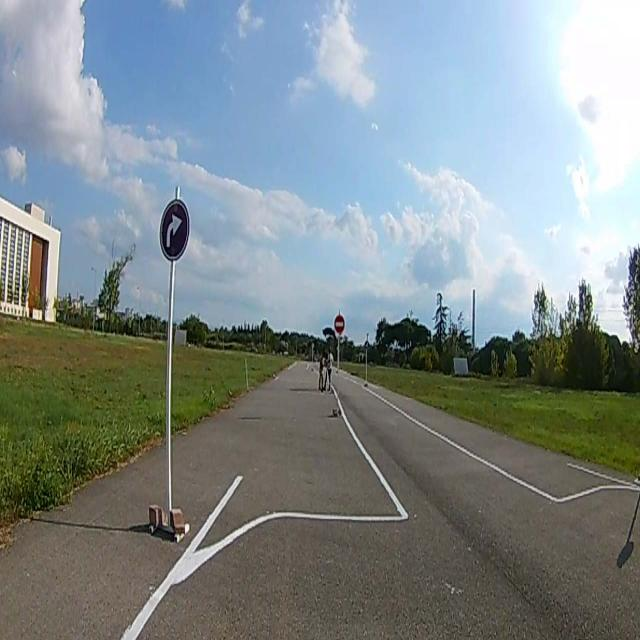girisyok: (334, 315, 346, 333)
sag: (162, 203, 186, 257)
